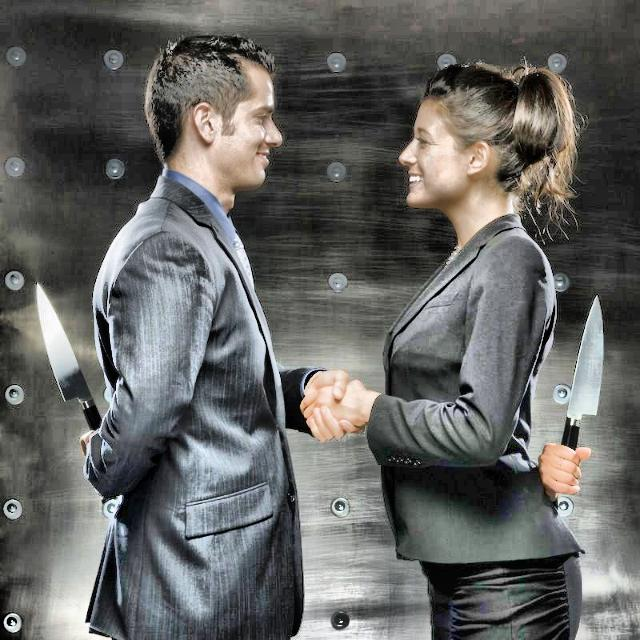knife: (534, 288, 608, 492), (28, 277, 108, 437)
